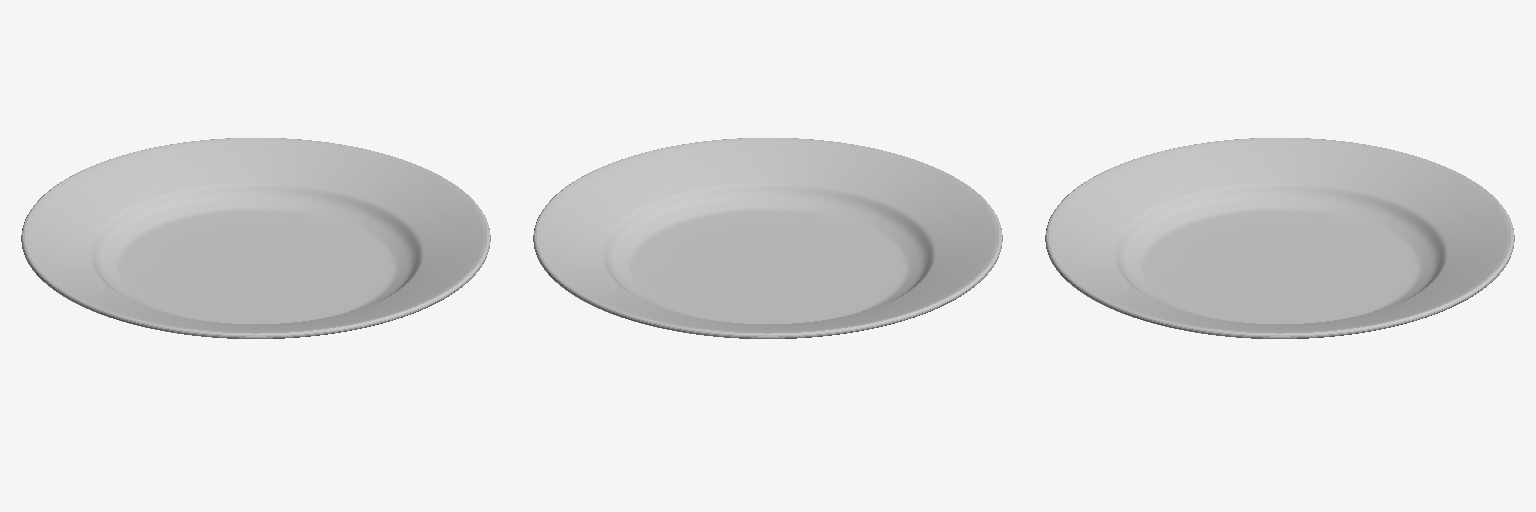
Rendered from plate.obj.
3 renders of one model, left to right at view 1: azimuth 30°, elevation 25°; view 2: azimuth 150°, elevation 25°; view 3: azimuth 270°, elevation 25°, orthographic.
Parts seen in each view (by area): view 1: plate_Plate; view 2: plate_Plate; view 3: plate_Plate.
Part boxes in pixels (left/top/right/bottom): plate_Plate: left=21, top=138, right=490, bottom=338; plate_Plate: left=533, top=138, right=1002, bottom=338; plate_Plate: left=1045, top=138, right=1514, bottom=338.
Size of the model in its own units: 0.9967 by 0.095 by 0.9967.